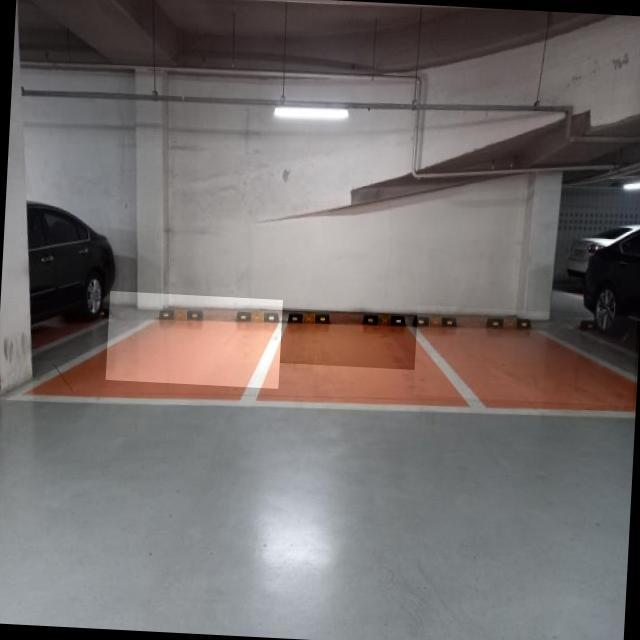empty: (413, 306, 638, 406), (106, 291, 283, 389), (274, 308, 428, 370)
